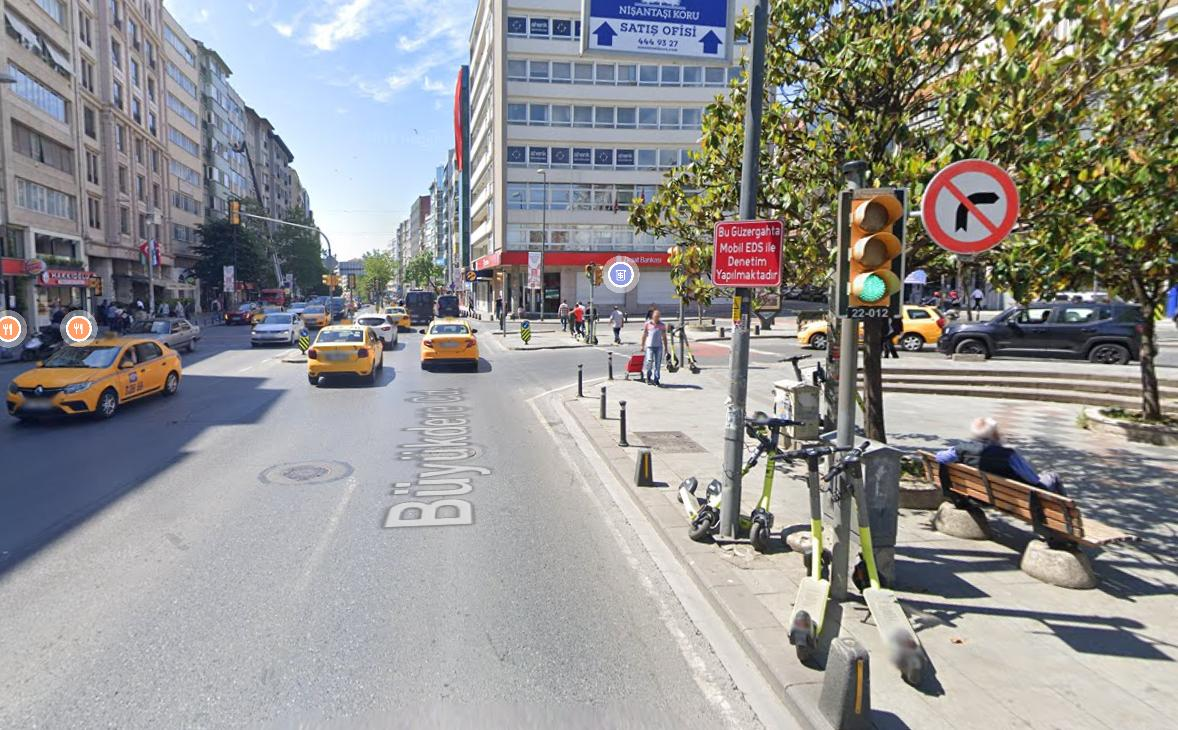greenlight: (846, 191, 902, 308)
rightturnsareforbidden: (924, 161, 1019, 251)
